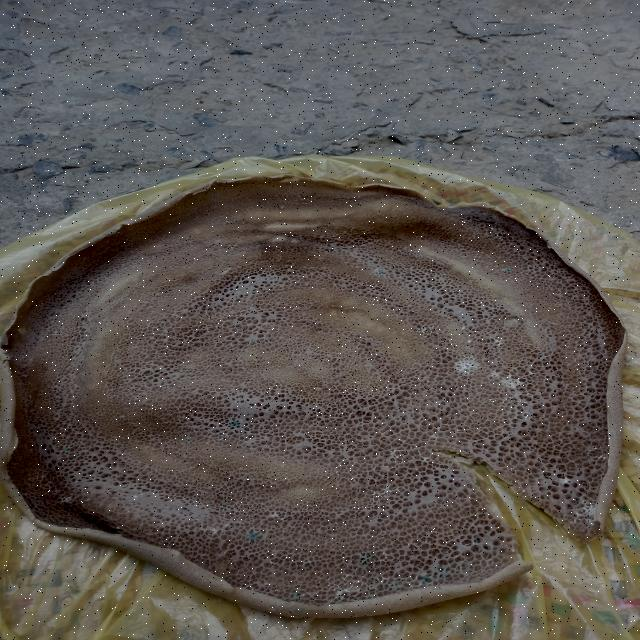injera_mold: (488, 392, 548, 423), (309, 575, 363, 603), (385, 448, 432, 472), (489, 368, 537, 390), (570, 497, 601, 528), (452, 356, 482, 376), (366, 482, 400, 499), (582, 447, 615, 463), (195, 521, 231, 535), (54, 492, 82, 507), (489, 219, 506, 242), (416, 323, 441, 338), (358, 552, 373, 565), (435, 568, 451, 579), (268, 512, 285, 522), (246, 531, 262, 541), (490, 338, 506, 348), (289, 590, 303, 599), (420, 574, 433, 583), (387, 581, 400, 590), (228, 419, 241, 428), (472, 535, 482, 546), (372, 269, 384, 278), (559, 477, 573, 484), (218, 433, 229, 441), (502, 266, 512, 274), (52, 330, 60, 337), (61, 447, 71, 452), (185, 437, 193, 443), (221, 505, 228, 510), (460, 326, 466, 330), (225, 220, 231, 224), (467, 339, 471, 344), (280, 206, 284, 209)
